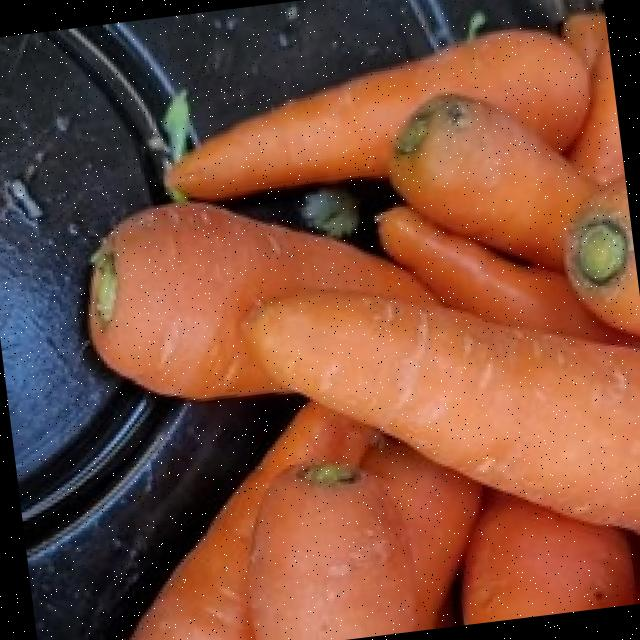carrot: (85, 12, 640, 640)
